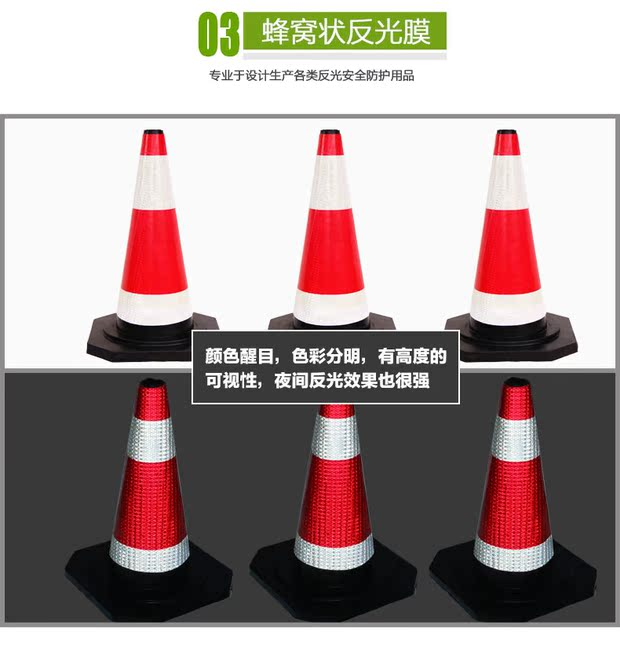traffic_cone: (241, 124, 422, 370), (56, 378, 238, 622), (61, 120, 232, 373), (448, 373, 610, 625), (257, 396, 431, 623), (433, 126, 590, 374)
